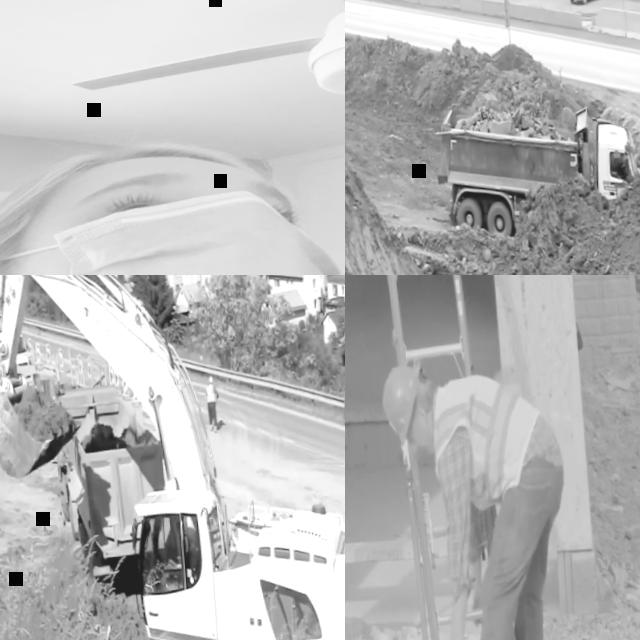helmet: (376, 358, 428, 450), (208, 376, 212, 382)
machinery: (0, 275, 345, 640), (428, 88, 640, 242), (49, 379, 174, 597)
mask: (0, 184, 345, 275)
no_helmet: (0, 138, 262, 200)
no_mask: (415, 416, 432, 454)
person: (378, 345, 578, 640), (0, 127, 345, 275), (160, 522, 192, 586), (203, 376, 220, 432)
vehicle: (0, 328, 29, 378)
vest: (426, 370, 545, 504), (204, 384, 216, 404)
